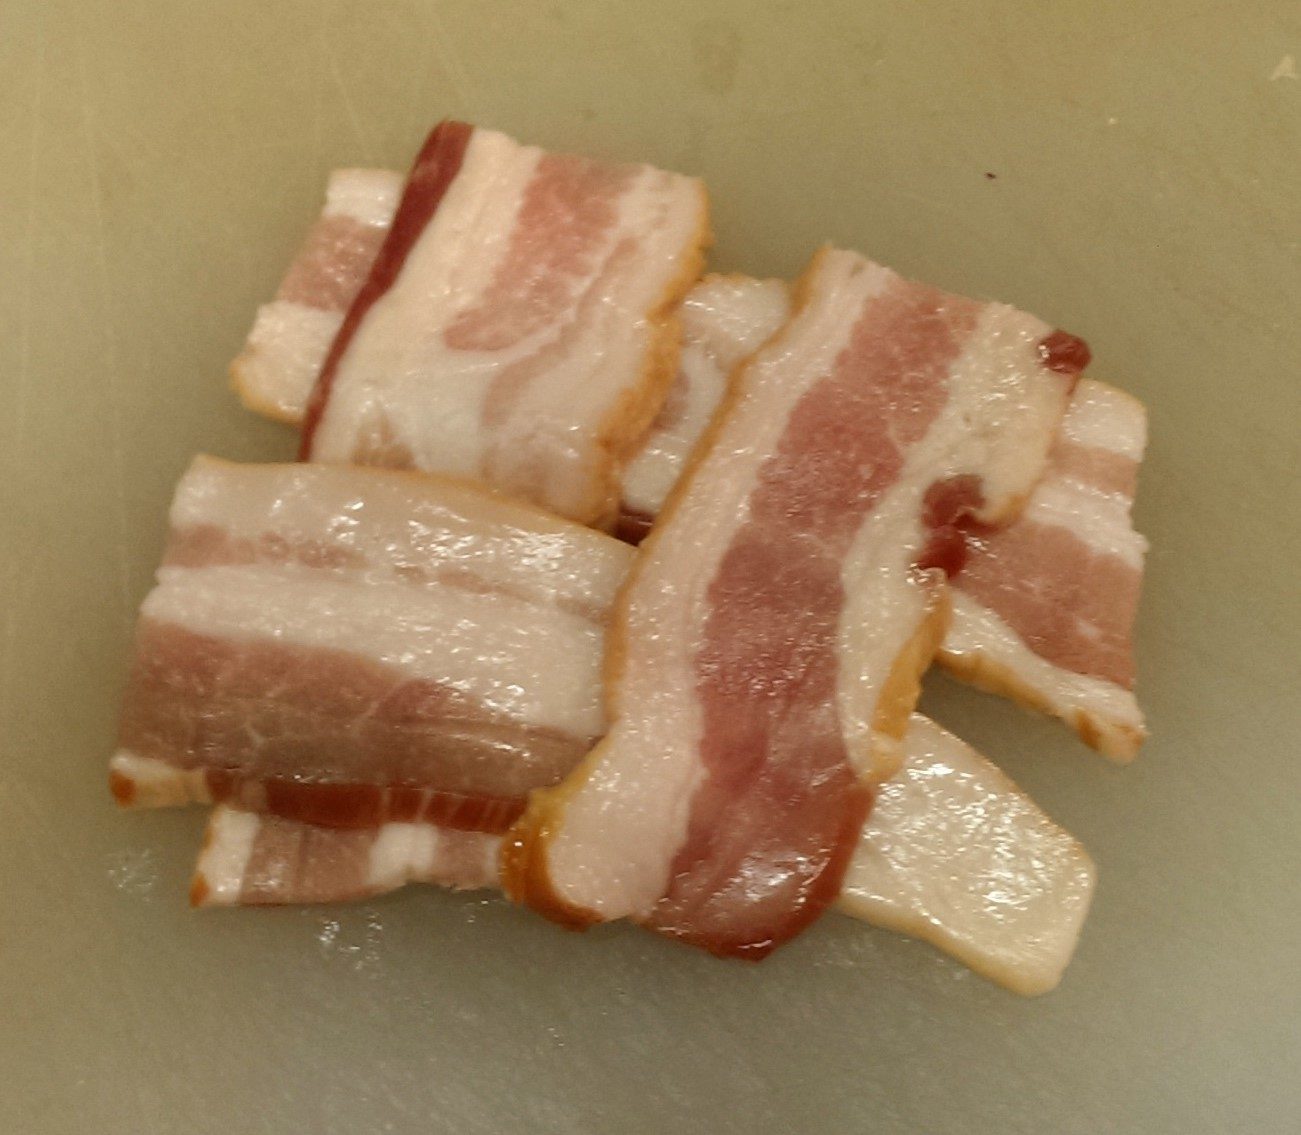bacon: (209, 139, 1169, 972)
